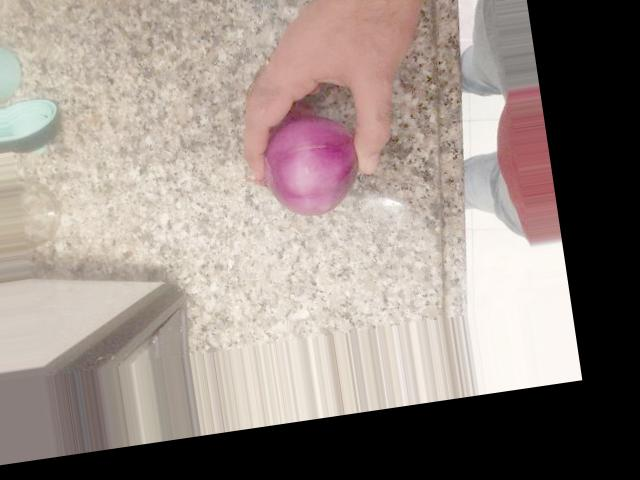onion: (242, 110, 386, 229)
